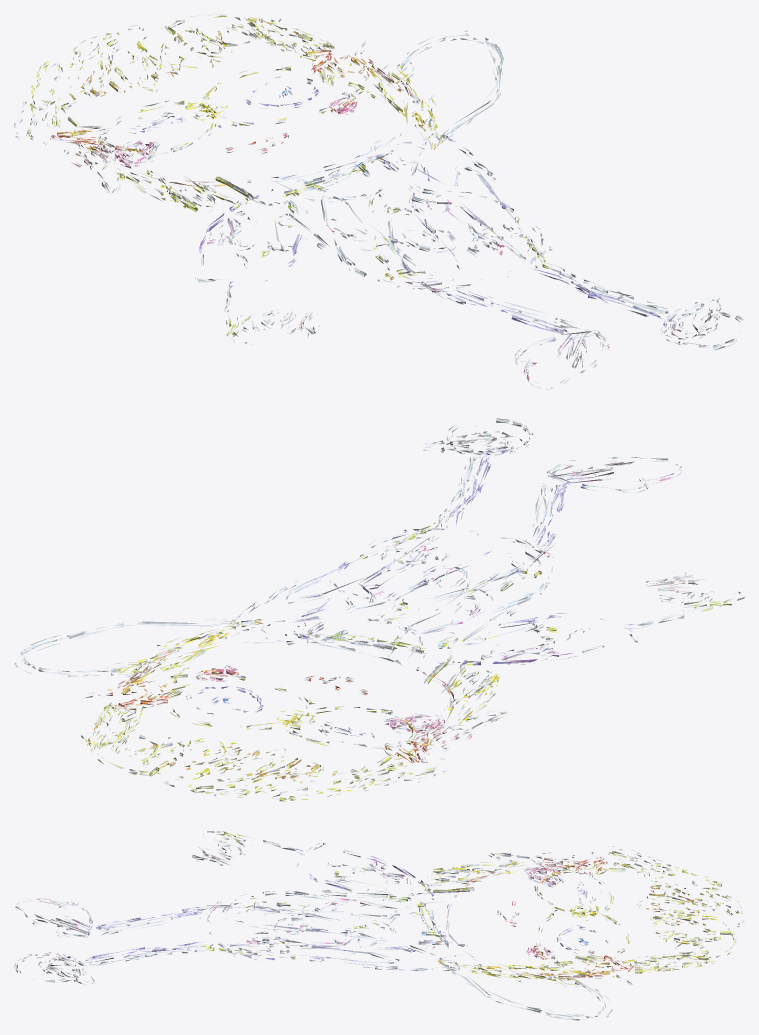
Rendered from Pete.glb.
3 renders of one model, top to bottom at view 1: azimuth 30°, elevation 25°; view 2: azimuth 150°, elevation 25°; view 3: azimuth 270°, elevation 25°, orthographic. The views are drawn at different scales.
Parts seen in each view (by area): view 1: node_id4; view 2: node_id4; view 3: node_id4.
Part boxes in pixels (bbox=[...]): node_id4: bbox=[14, 14, 743, 389]; node_id4: bbox=[14, 418, 744, 801]; node_id4: bbox=[14, 831, 744, 1020].
Size of the model in its own units: 0.2557 by 0.00226 by 0.419.
Materials: 1 (1 with a texture image).
